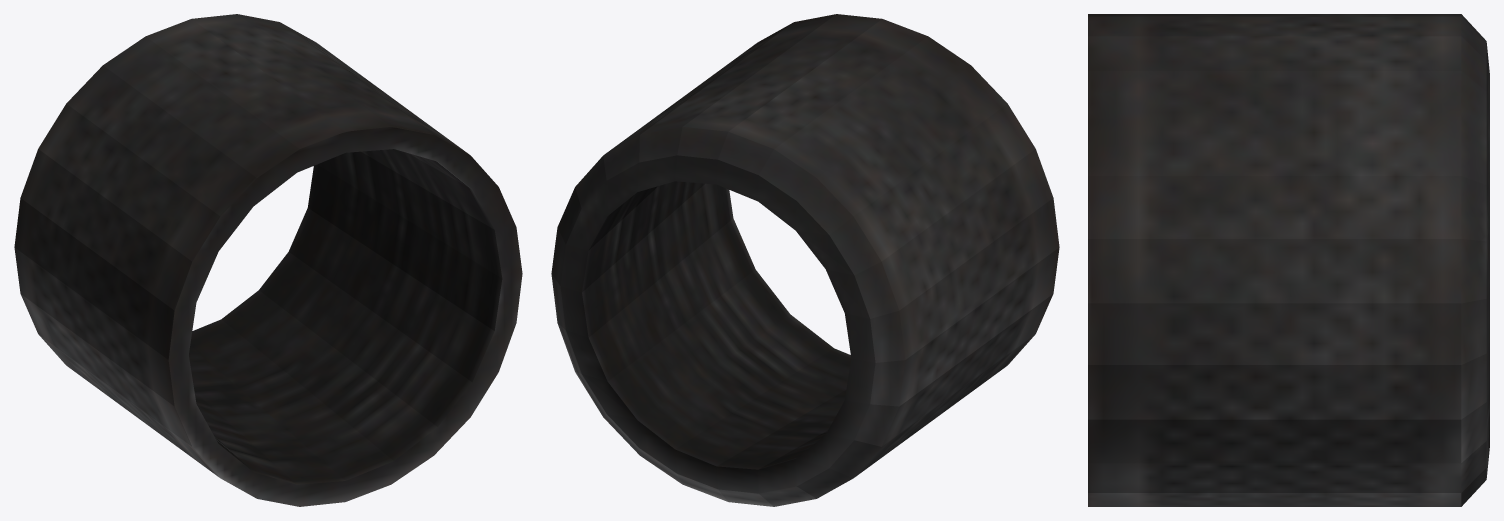
The picture shows the model from 3 angles, left to right: view 1: azimuth 30°, elevation 25°; view 2: azimuth 150°, elevation 25°; view 3: azimuth 270°, elevation 25°; orthographic projection. The views are drawn at different scales.
Visible parts, largest first — view 1: TW_6194f1f918a3974e5e7421e4_PZ_Import; view 2: TW_6194f1f918a3974e5e7421e4_PZ_Import; view 3: TW_6194f1f918a3974e5e7421e4_PZ_Import.
Boxes of the visible parts, x1=… form: TW_6194f1f918a3974e5e7421e4_PZ_Import: x1=14, y1=14, x2=522, y2=506; TW_6194f1f918a3974e5e7421e4_PZ_Import: x1=551, y1=14, x2=1059, y2=506; TW_6194f1f918a3974e5e7421e4_PZ_Import: x1=1088, y1=14, x2=1489, y2=506.
Bounding box in the file's own units: 0.00988 × 0.00802 × 0.00988.
Materials: 1 (1 with a texture image).
